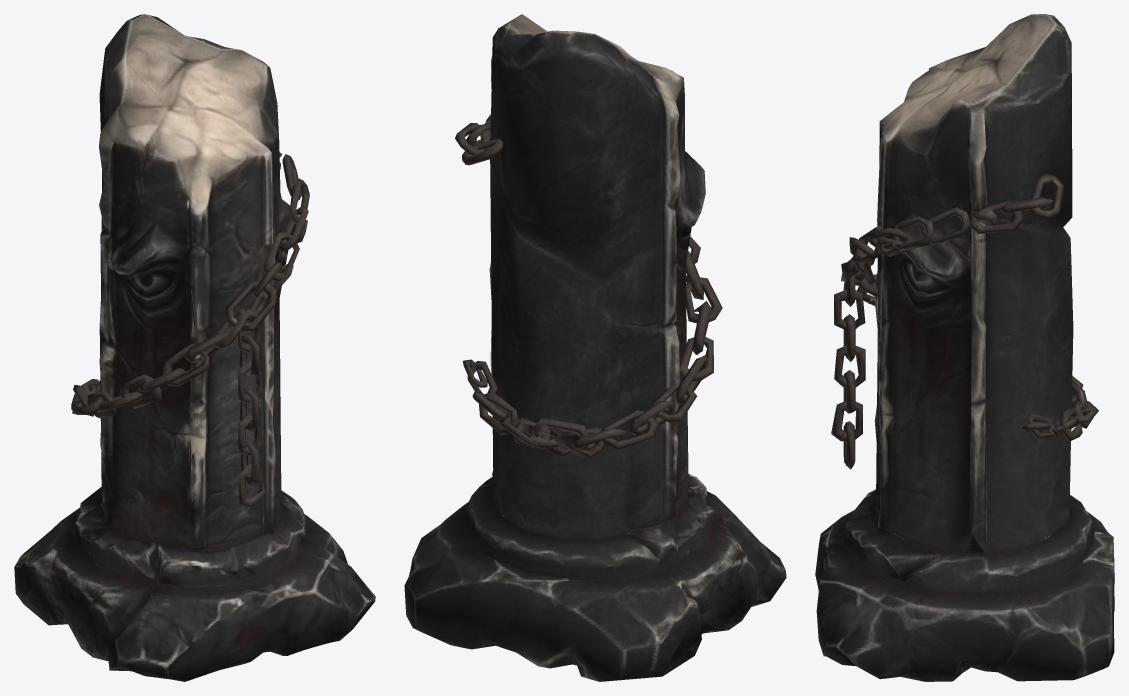
Rendered from wrath-column-886247055fd3.glb.
3 views of the same model, side by side, from view 1: azimuth 30°, elevation 25°; view 2: azimuth 150°, elevation 25°; view 3: azimuth 270°, elevation 25° (orthographic). The views are drawn at different scales.
Bounding box in the file's own units: 0.4507 × 0.9541 × 0.435.
1 material, 1 textured.
